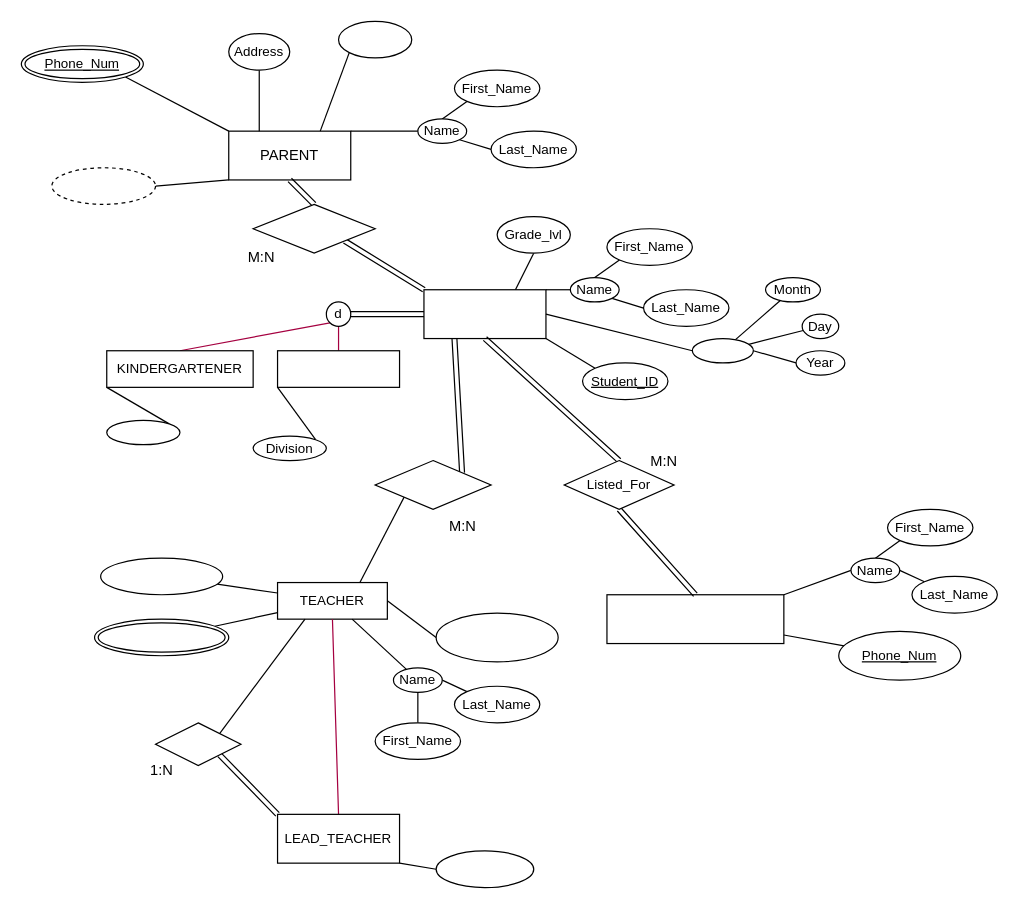
The diagram is 1019 pixels wide and 909 high, and some of its shapes have lost their labels. Here are the shapes that lost their labels. From the top down, the centre of each, then its label:
pixel 374 39: Email
pixel 103 185: Num_Children
pixel 313 228: Parent_Of
pixel 484 314: STUDENT
pixel 338 368: ELEMENTARY
pixel 722 350: DOB
pixel 143 432: Class
pixel 432 484: TEACHES
pixel 161 576: Preferred_Prefix
pixel 161 637: Grades_Teaching
pixel 496 637: Teaching_ID
pixel 695 619: EMERGENCY_CONTACT
pixel 197 744: Manages
pixel 484 869: Grade_Led
